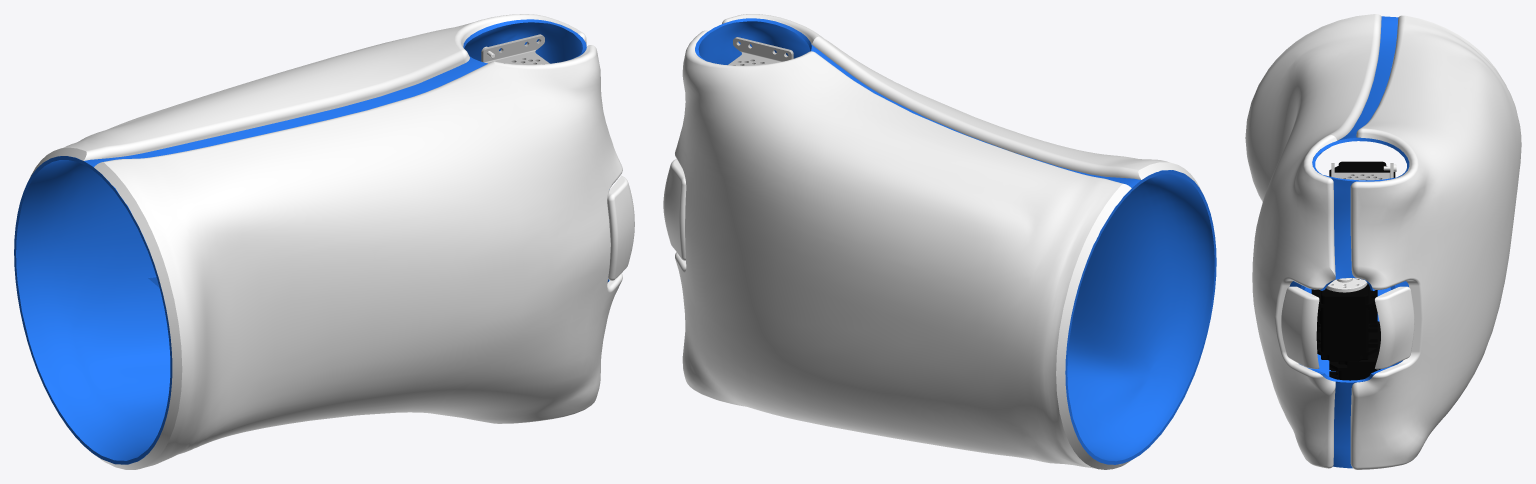
Rendered from Torso.glb.
3 views of the same model, side by side, from view 1: azimuth 30°, elevation 25°; view 2: azimuth 150°, elevation 25°; view 3: azimuth 270°, elevation 25° (orthographic). The views are drawn at different scales.
Size of the model in its own units: 0.2904 by 0.2028 by 0.1683.
